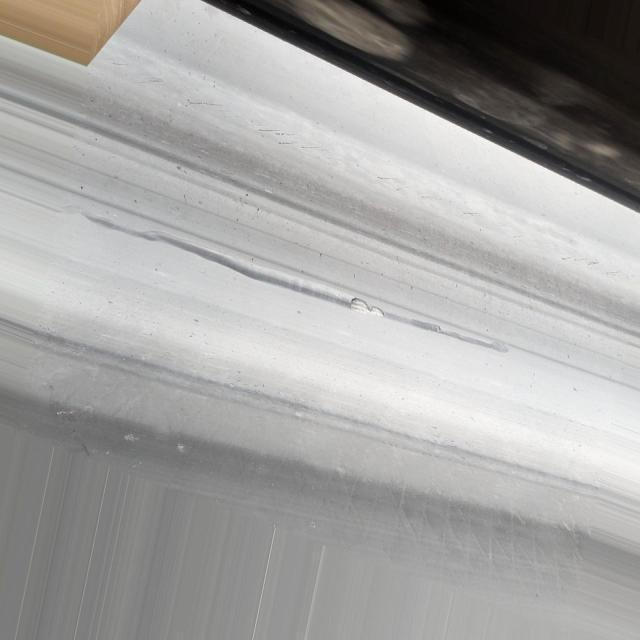Impact Damage: (343, 291, 389, 329)
